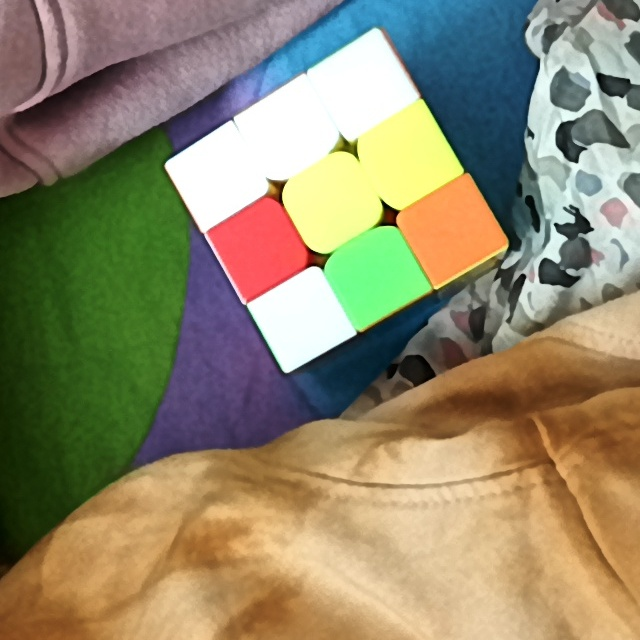tile: (377, 125, 437, 186), (331, 55, 390, 116), (343, 246, 405, 302), (423, 200, 481, 257), (305, 168, 360, 228), (259, 102, 316, 159), (238, 218, 291, 274), (277, 291, 329, 344), (191, 151, 242, 205)
